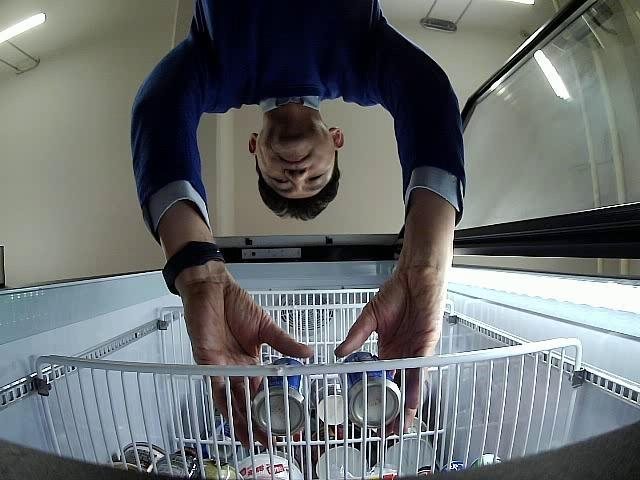15_letsbe: (338, 351, 401, 427), (252, 359, 306, 436)
